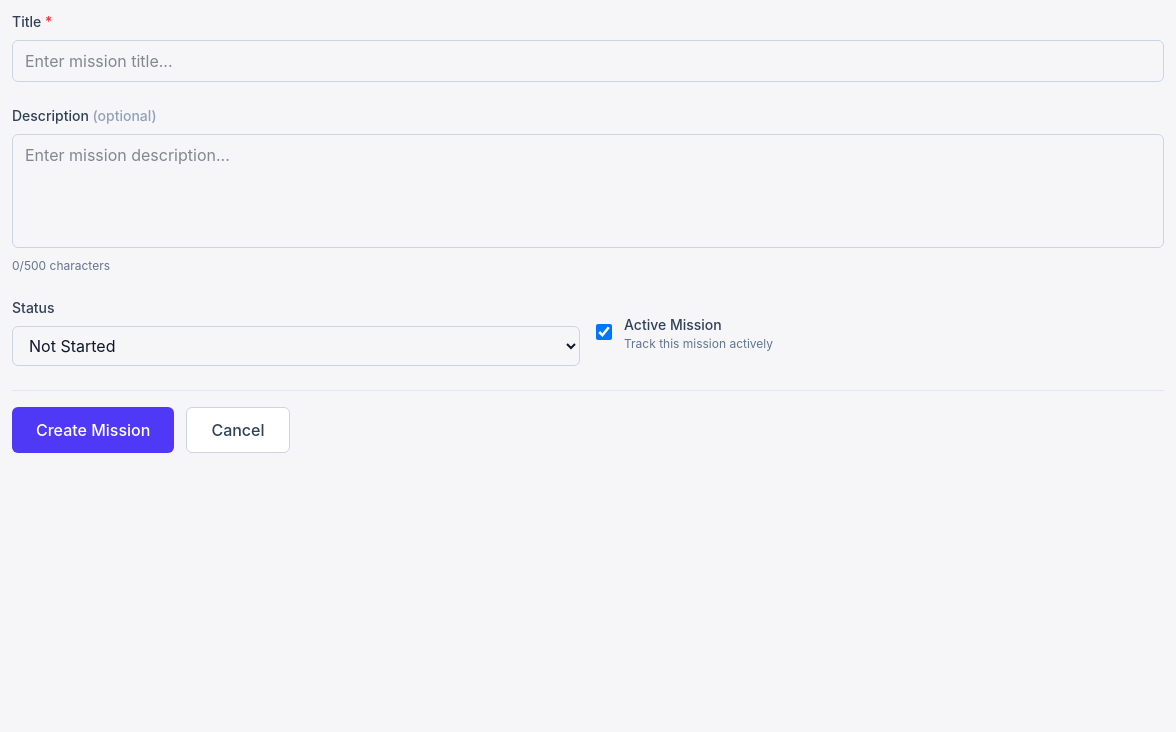
Scenario: MissionForm › shows unsaved changes warning when form is dirty
Step 1. Type "Test" into the field labelled "Title *" → (588, 61), box x1=12 y1=40 x2=1164 y2=82
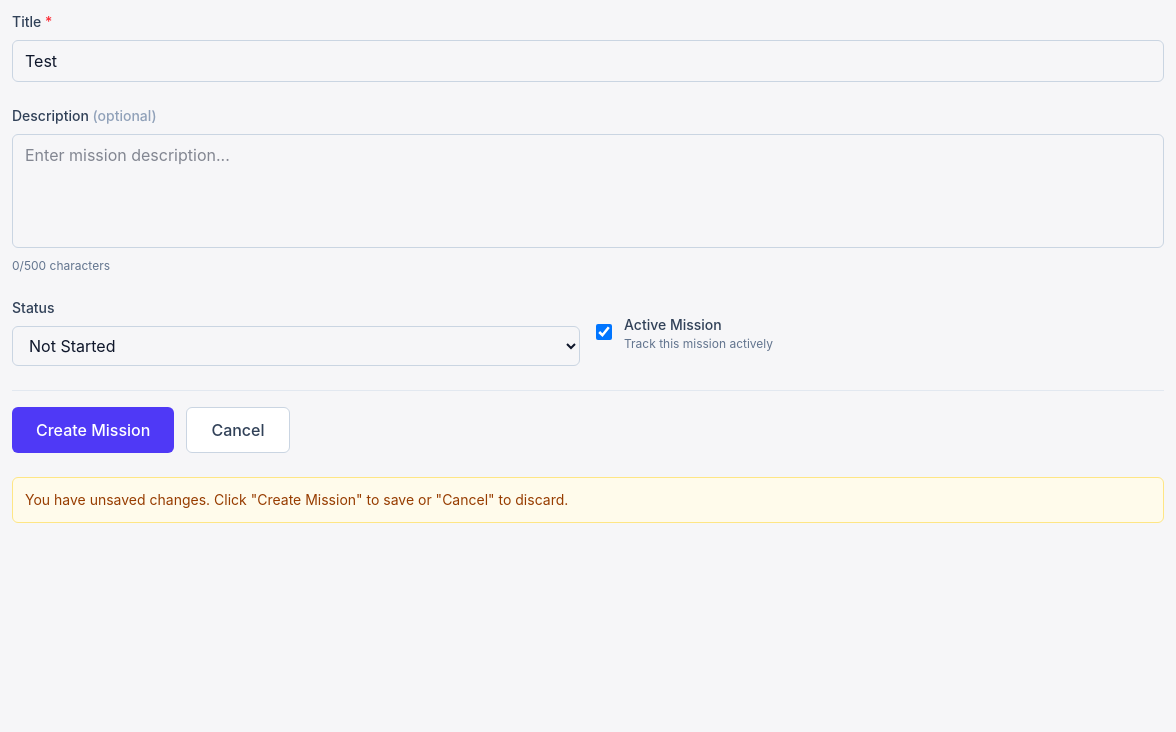
Now the text "You have unsaved changes" is shown, box x1=25 y1=491 x2=257 y2=508
